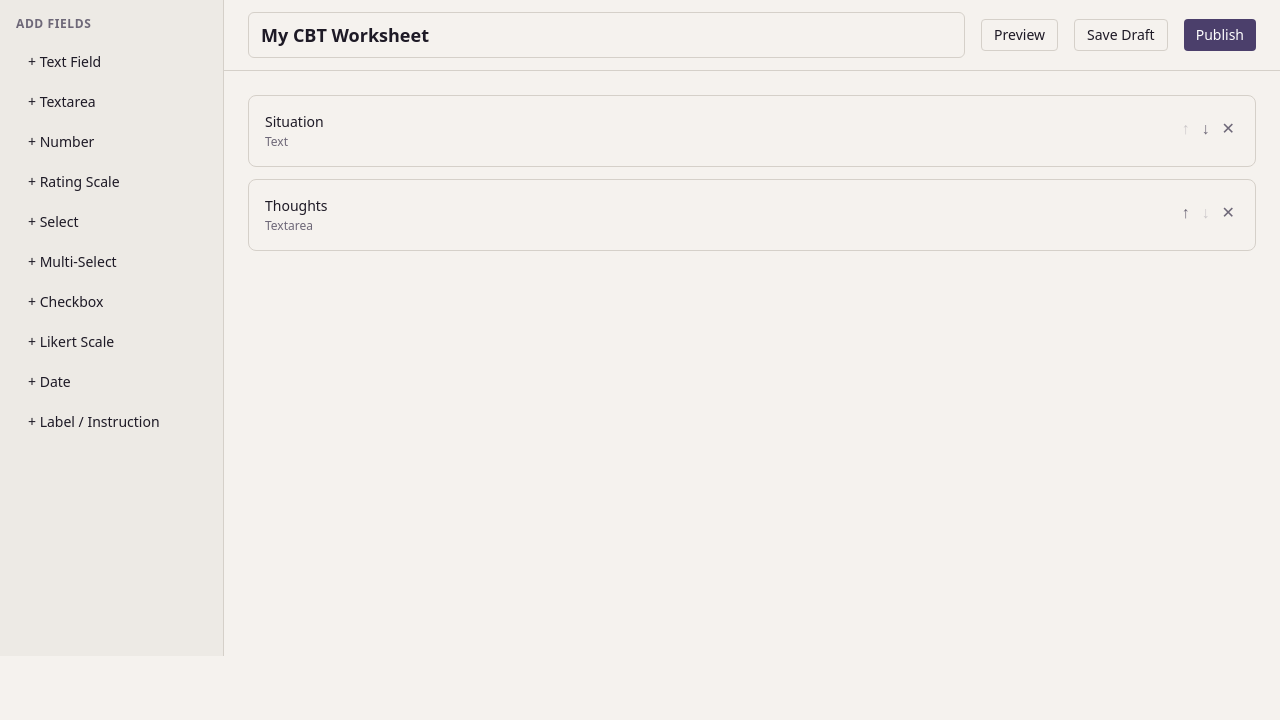
it: Worksheet builder page › preview toggle switches to preview mode showing rendered fields
Click the button "Preview": x=1020, y=35 top-left (981, 19), bottom-right (1058, 51)
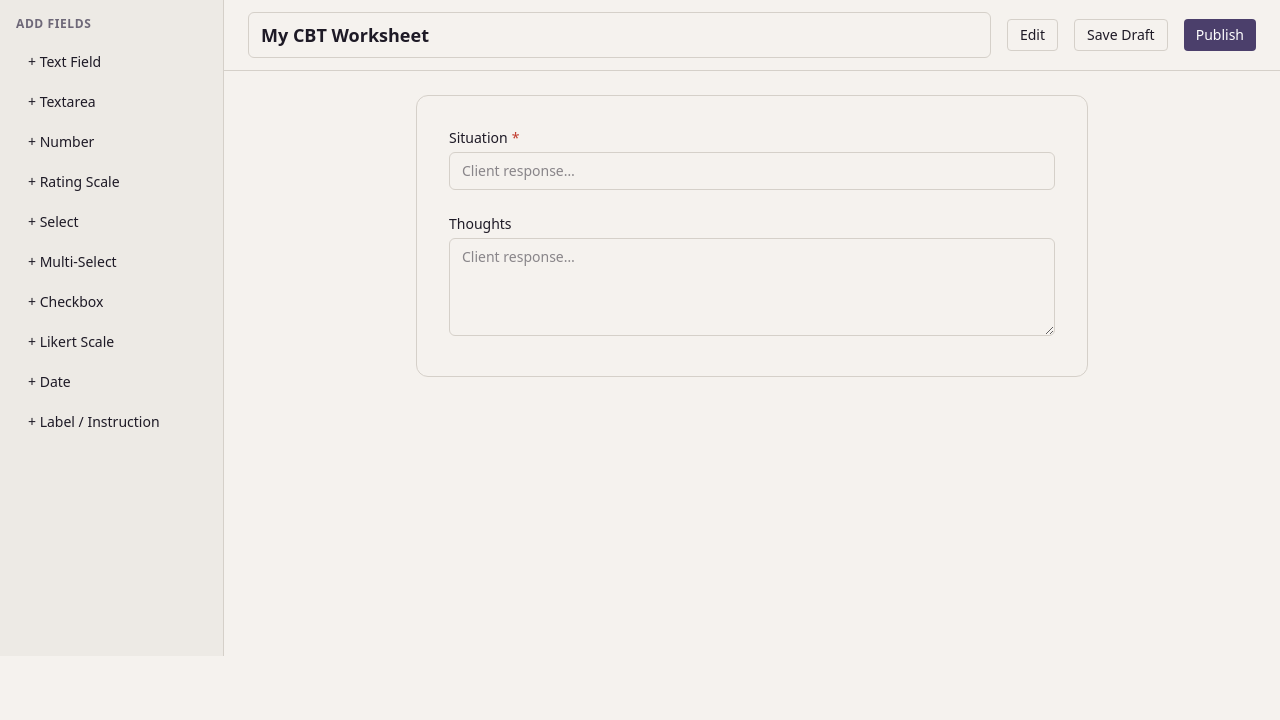
Check: the button "Edit" is shown, box top-left (1007, 19), bottom-right (1058, 51)
